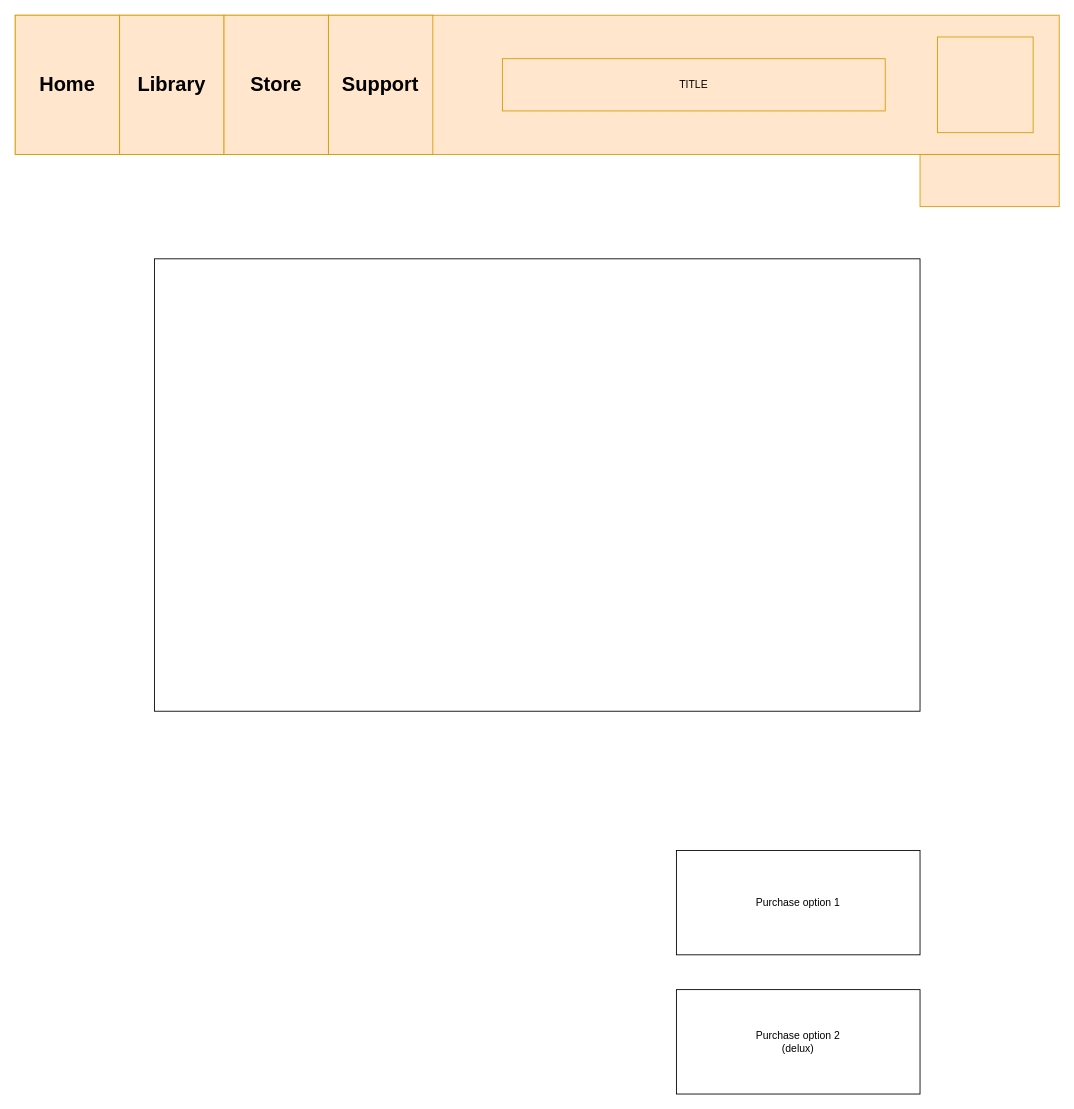
Image size: 1074x1109. Some labels were removed from this diagram. The centre of each missing label's shape, as x and y in pixels:
LOGO: (x=985, y=84)
Picture/video of the game: (x=537, y=484)
Search window: (x=989, y=180)
